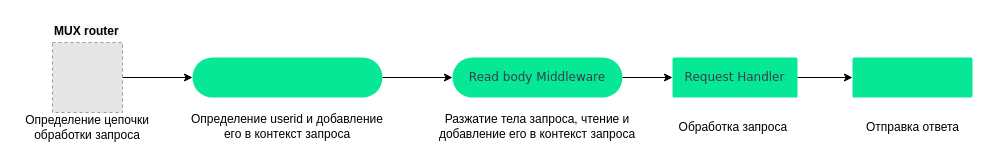
Some shapes in this 997 by 164 pixel diagram are drawn without their labels. Grey dashed boxes stand in for pictures. Here are the shapes that lost their labels. From the top down, the centre of each, then its label:
At (x=287, y=77): "Authentication middlewaware".
At (x=912, y=77): "sendRequest()".
